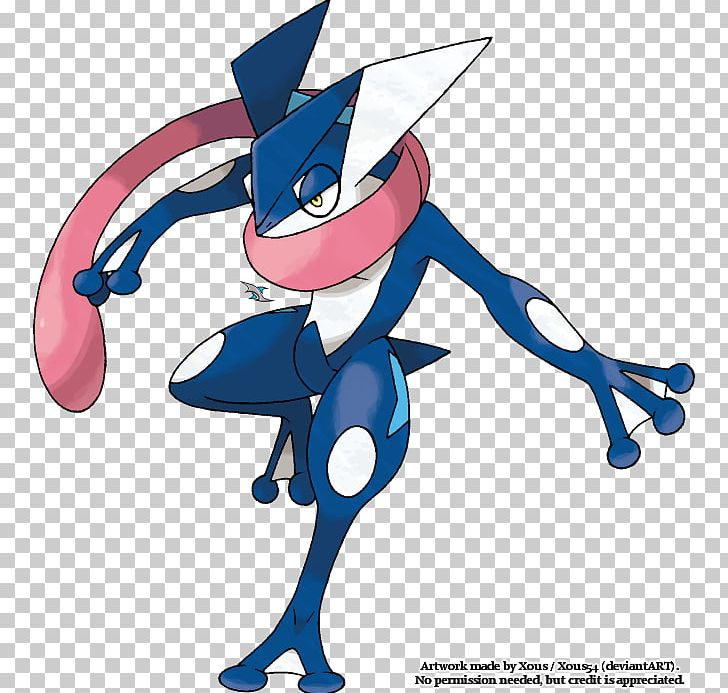greninja: (34, 3, 694, 691)
